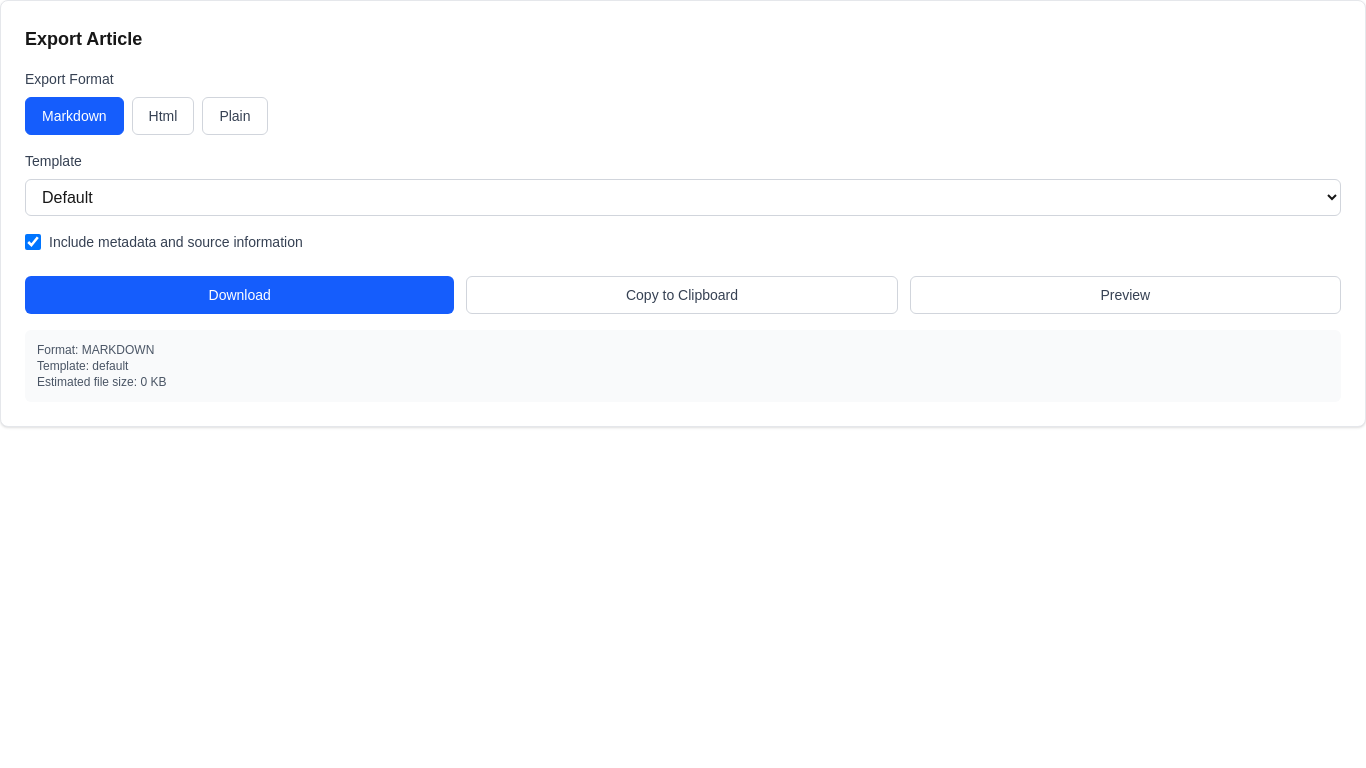
Test case: ExportOptions › should close preview when close button is clicked
The width and height of the screenshot is (1366, 768).
Open preview
Click the button "Preview" at coordinates (1125, 295), box [910,276,1341,314]
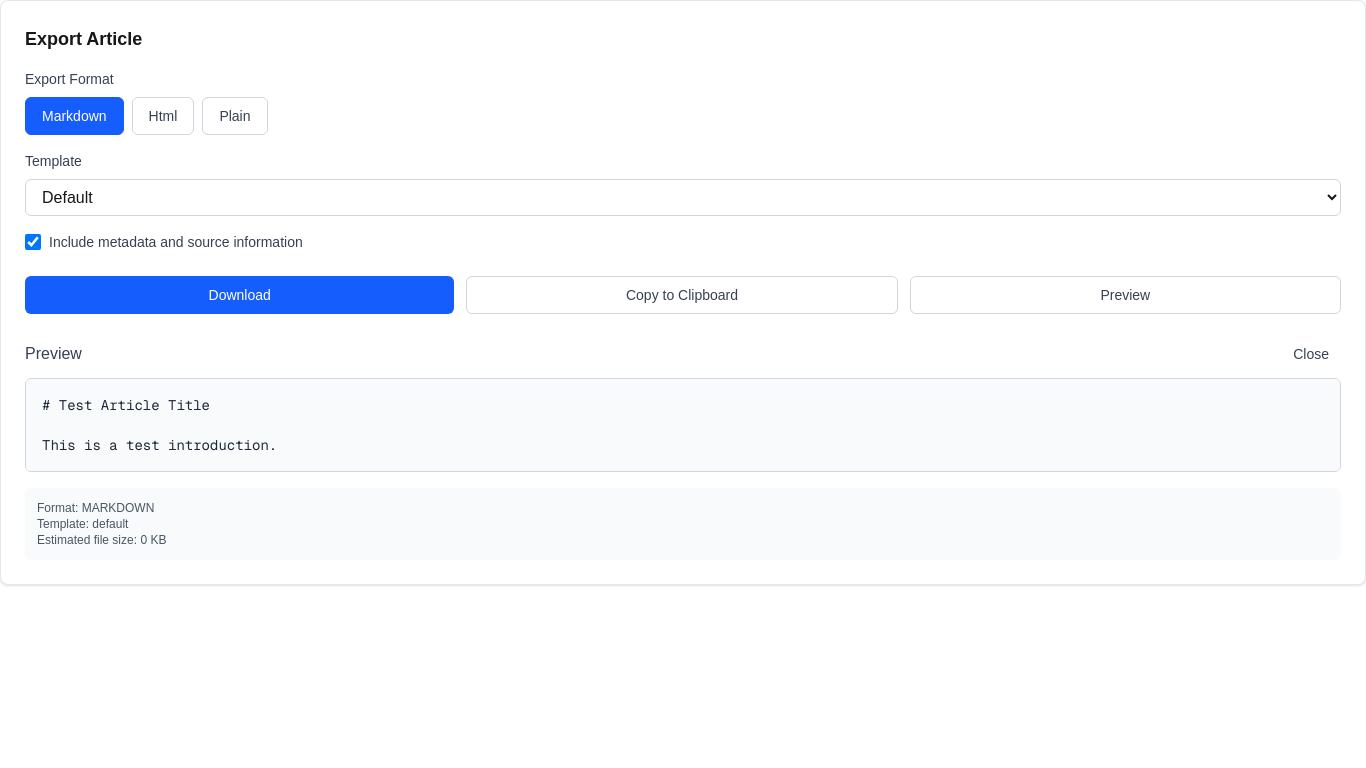
Expected: the button "Close" is shown
Close preview
Click the button "Close" at coordinates (1311, 354), box [1281,338,1341,370]
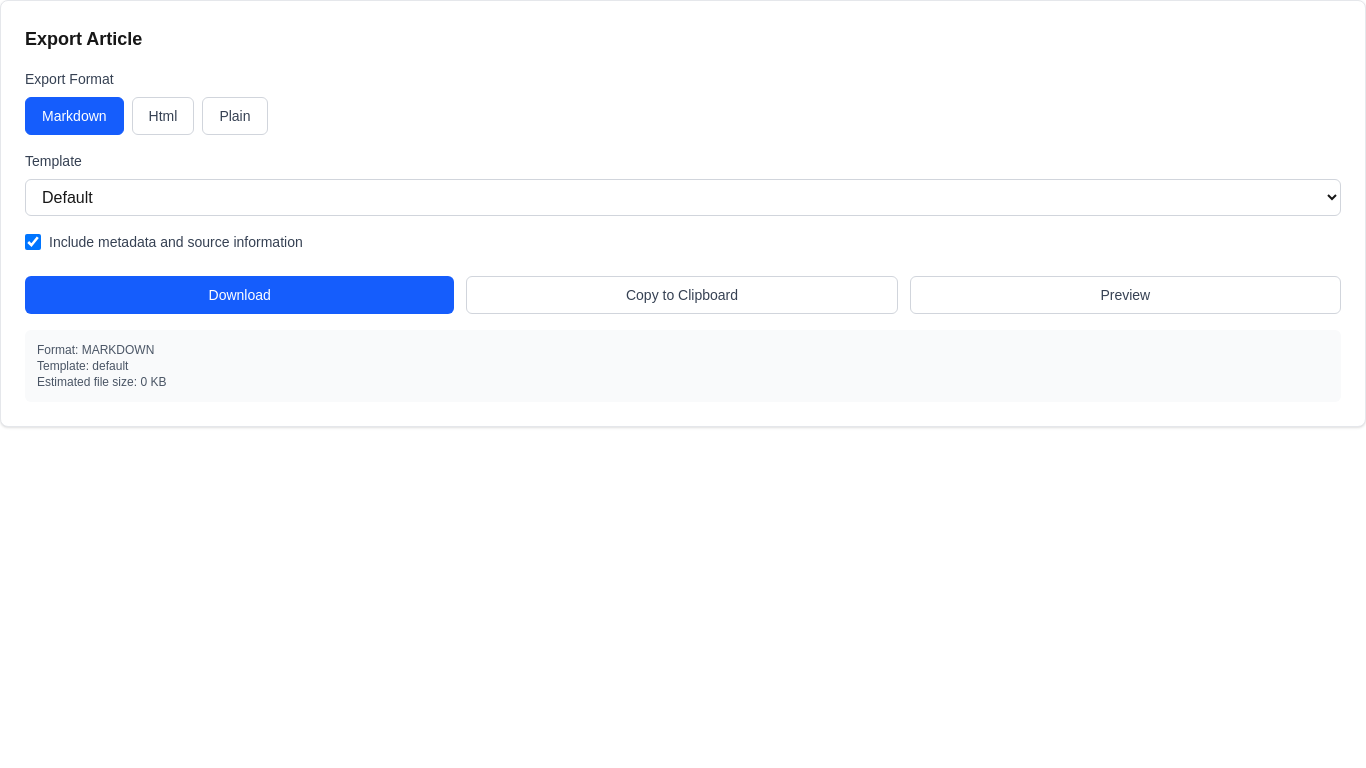
Expected: the button "Close" is gone
